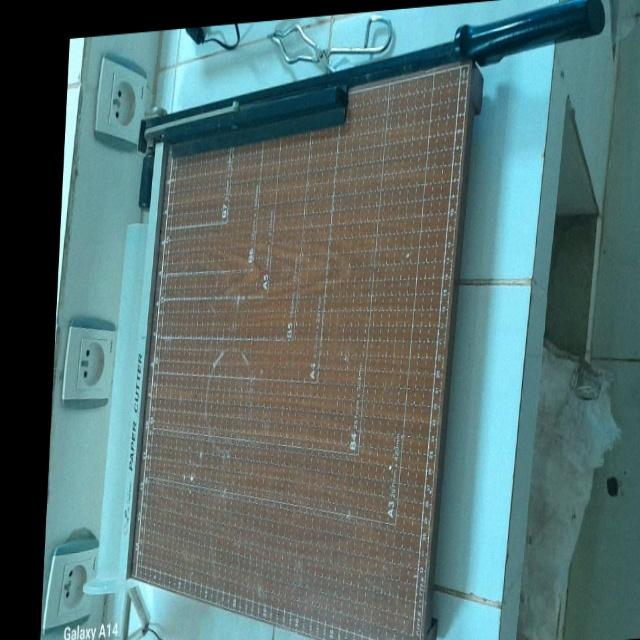TLC Cutter: (106, 0, 622, 640)
